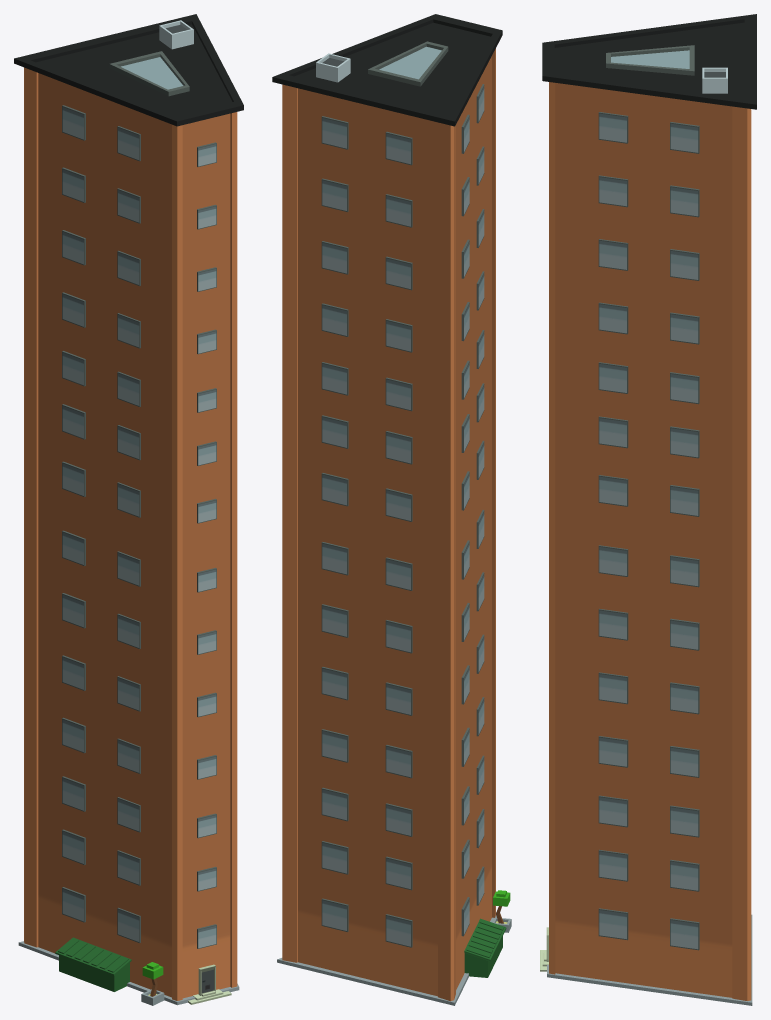
Rendered from Basic Triangular Highest Doubled.fbx.
3 views of the same model, side by side, from view 1: azimuth 30°, elevation 25°; view 2: azimuth 150°, elevation 25°; view 3: azimuth 270°, elevation 25° (orthographic).
Parts seen in each view (by area): view 1: Basic Triangular Highest Doubled; view 2: Basic Triangular Highest Doubled; view 3: Basic Triangular Highest Doubled.
Boxes of the visible parts, bbox=[...] form: Basic Triangular Highest Doubled: bbox=[14, 14, 243, 1005]; Basic Triangular Highest Doubled: bbox=[272, 14, 511, 1005]; Basic Triangular Highest Doubled: bbox=[540, 14, 756, 1005].
Size of the model in its own units: 5.71 by 26.81 by 5.76.
